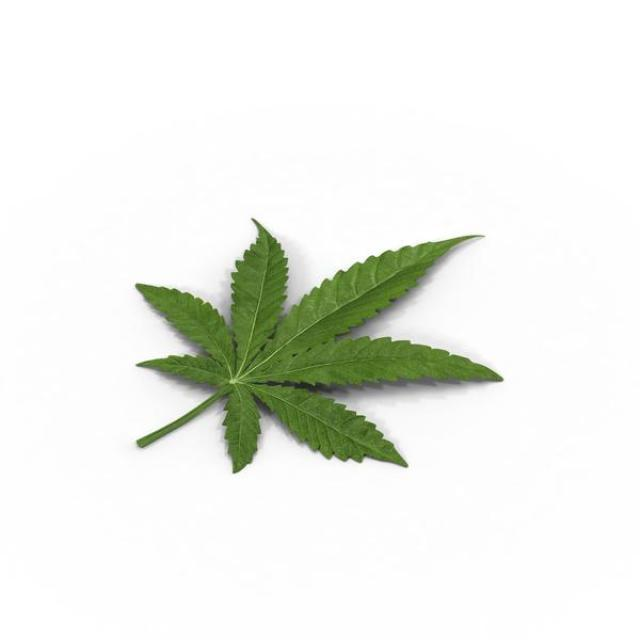cannabis: (129, 222, 503, 474)
